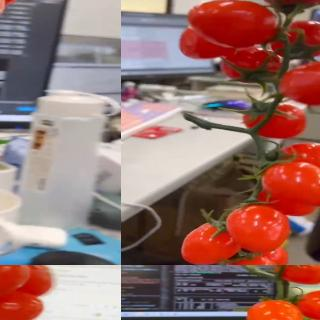tomato: (189, 0, 283, 46), (226, 202, 291, 254), (256, 160, 320, 208), (180, 222, 242, 265), (243, 102, 309, 140), (217, 48, 285, 84), (264, 20, 320, 63), (0, 265, 56, 301), (278, 58, 320, 105), (274, 141, 320, 175), (245, 295, 304, 320), (0, 265, 31, 304), (0, 294, 45, 320), (269, 265, 320, 284), (294, 288, 320, 320), (223, 255, 284, 265), (258, 0, 320, 9)
